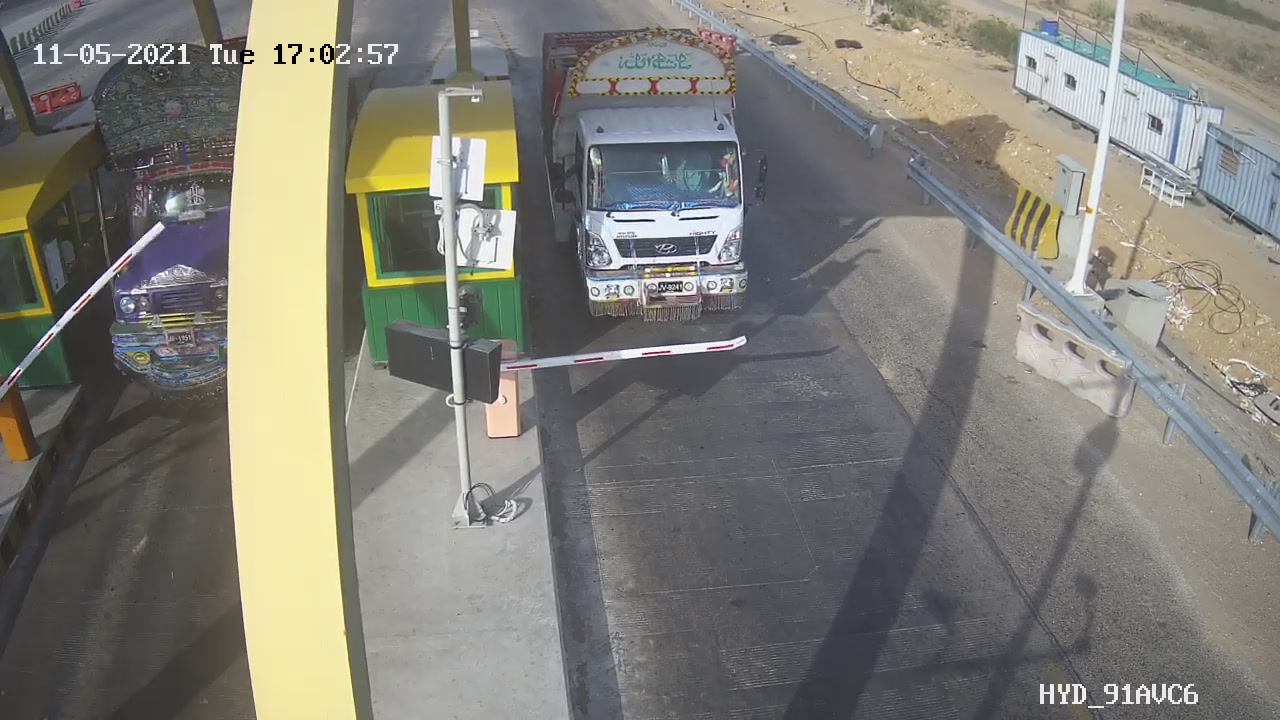F5: (520, 16, 785, 336)
